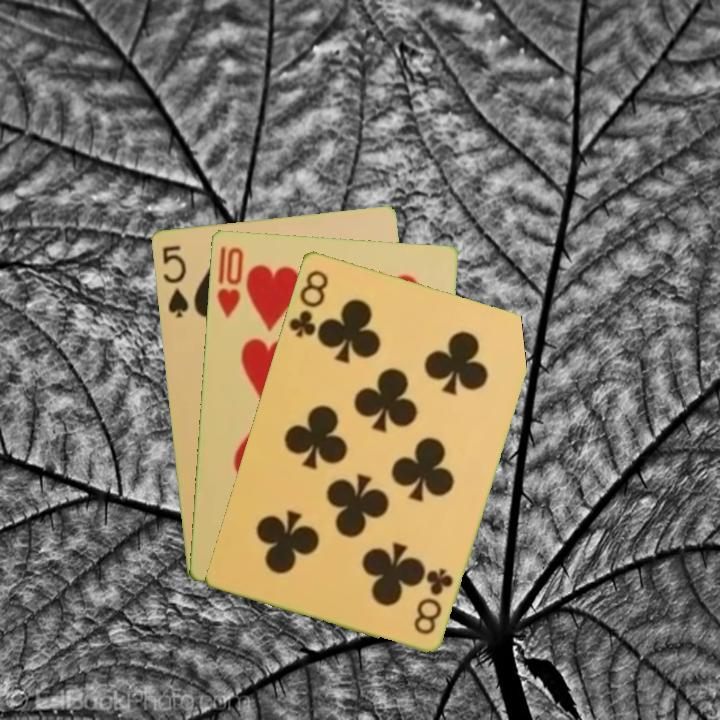10h: (213, 242, 246, 320)
5s: (158, 241, 191, 321)
8c: (409, 563, 456, 638), (285, 265, 331, 340)
